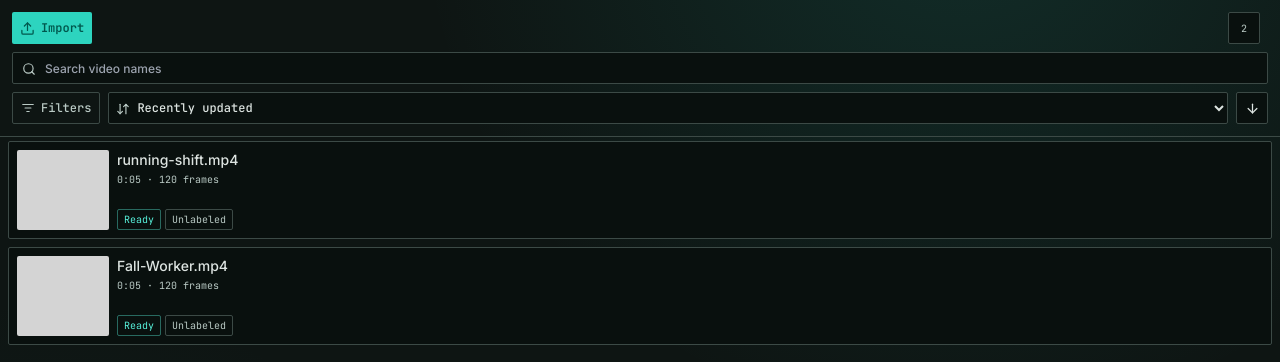
Test case: VideoBrowser › filters video cards by a case-insensitive name search
Type "FALL" into the search field named "Search videos by name" at (640, 68), box [12,52,1268,84]
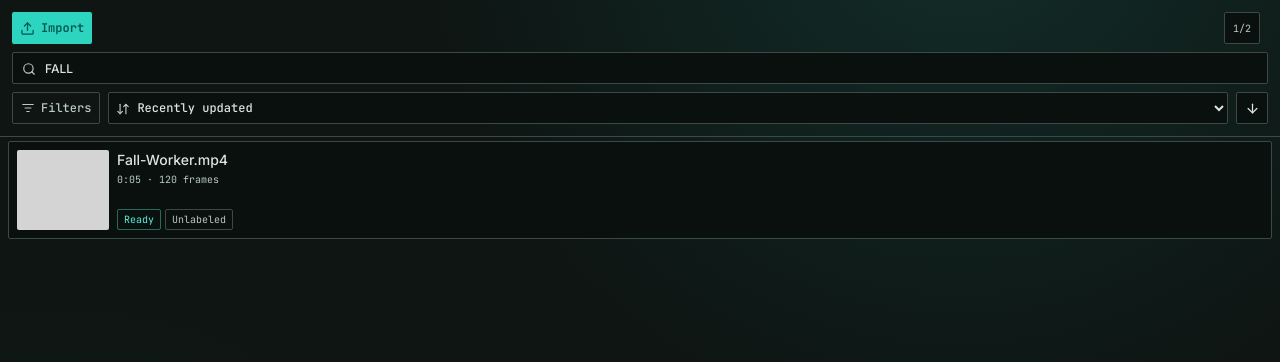
Expected: the text "Fall-Worker.mp4" is shown, [117,151,228,168]
Result: the button "running-shift.mp4" is gone
